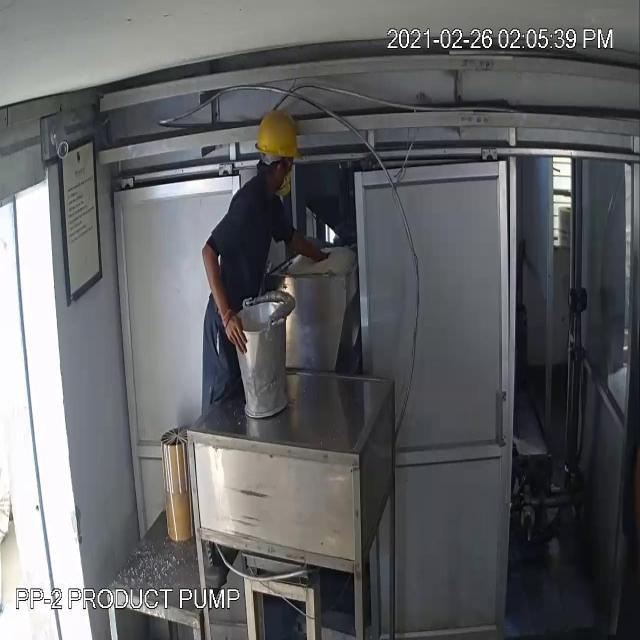helmet: (249, 100, 302, 166)
